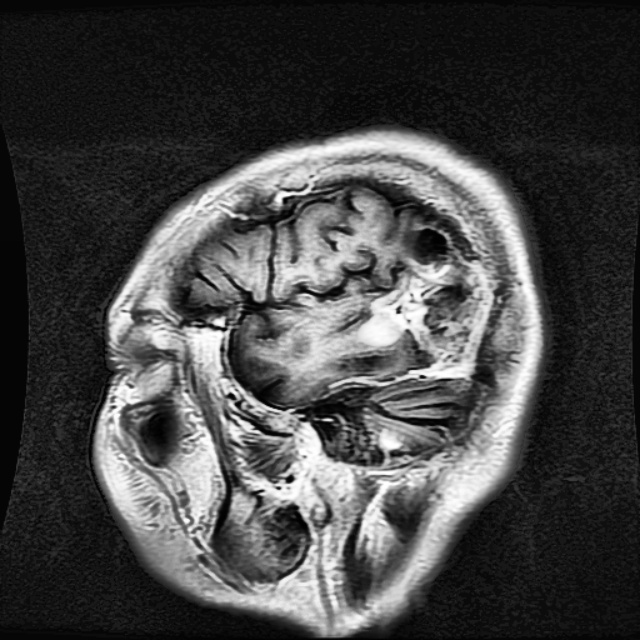Meningioma: (357, 228, 487, 365)
